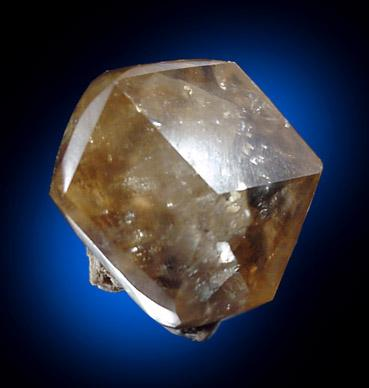calcite: (50, 60, 323, 341)
